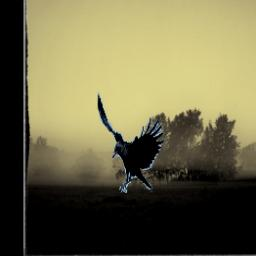Crow: (97, 90, 164, 193)
